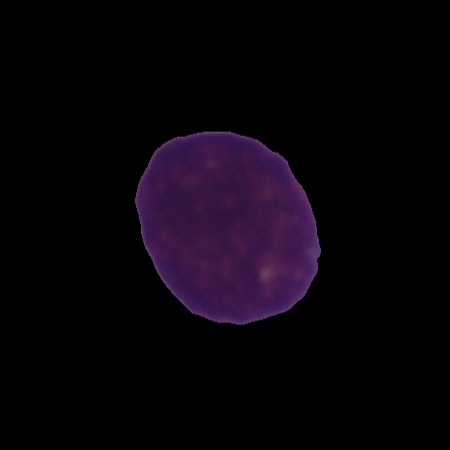ALL: (131, 127, 324, 327)
